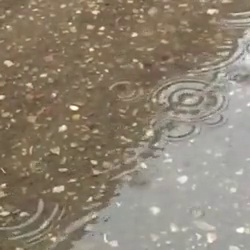drop: (1, 182, 64, 244), (152, 77, 227, 121), (150, 111, 197, 142), (108, 79, 143, 102), (195, 108, 225, 129), (227, 68, 250, 84), (28, 159, 46, 174), (188, 205, 203, 220)
